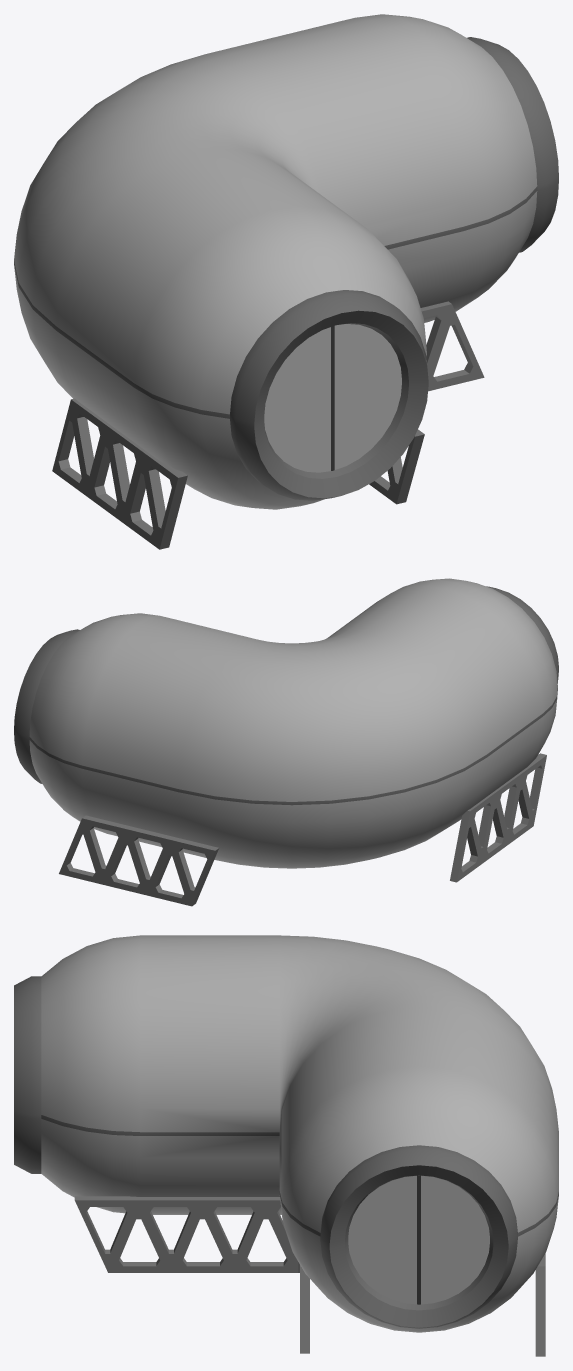
File: building-l.glb
3 renders of one model, top to bottom at view 1: azimuth 30°, elevation 25°; view 2: azimuth 150°, elevation 25°; view 3: azimuth 270°, elevation 25°, orthographic. The views are drawn at different scales.
Visible parts, largest first — view 1: Building_L; view 2: Building_L; view 3: Building_L.
Boxes of the visible parts, left/top/right/bottom form: Building_L: left=14, top=14, right=558, bottom=549; Building_L: left=14, top=578, right=558, bottom=906; Building_L: left=14, top=935, right=558, bottom=1356.
Bounding box in the file's own units: 7.8 × 4.31 × 7.79.
Materials: 1 (1 with a texture image).
